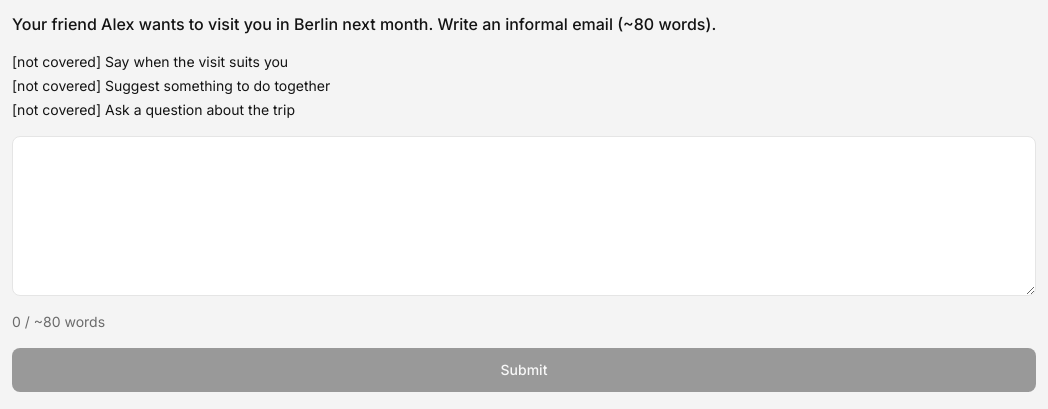
Test: writing composer (GT-212) › counts words accurately
Type "Hallo Alex, wie geht es dir?" into the text box with test id "composer-text".
click(524, 216); type("Hallo Alex, wie geht es dir?")  # box [12,136,1036,296]
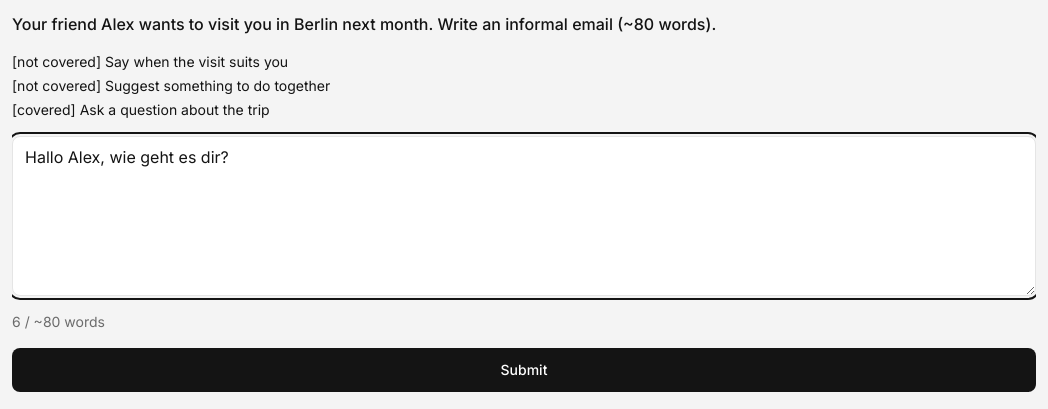
Expected: the text with test id "composer-word-count" shows "6 /", [12,313,105,330]
